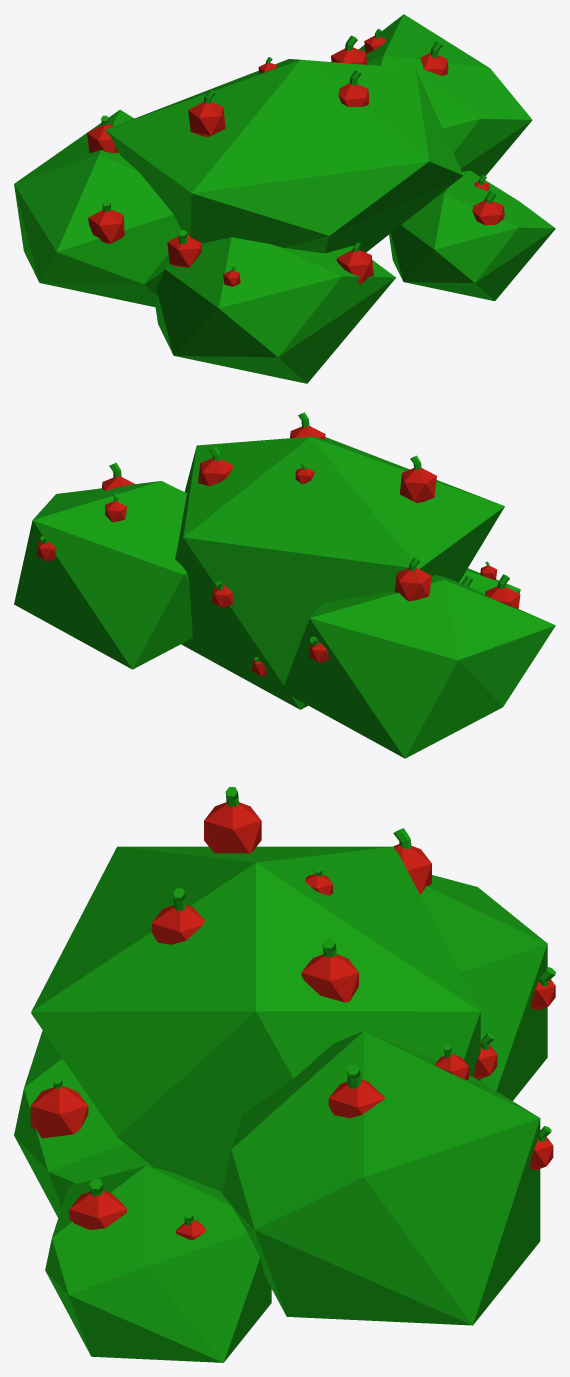
The model's file is Berry_Bush.fbx.
3 renders of one model, top to bottom at view 1: azimuth 30°, elevation 25°; view 2: azimuth 150°, elevation 25°; view 3: azimuth 270°, elevation 25°, orthographic. The views are drawn at different scales.
Parts seen in each view (by area): view 1: Icosphere; view 2: Icosphere; view 3: Icosphere.
Part boxes in pixels (left/top/right/bottom): Icosphere: left=14, top=14, right=555, bottom=383; Icosphere: left=14, top=412, right=555, bottom=758; Icosphere: left=14, top=787, right=555, bottom=1362.
Size of the model in its own units: 2.26 by 1.23 by 1.39.
